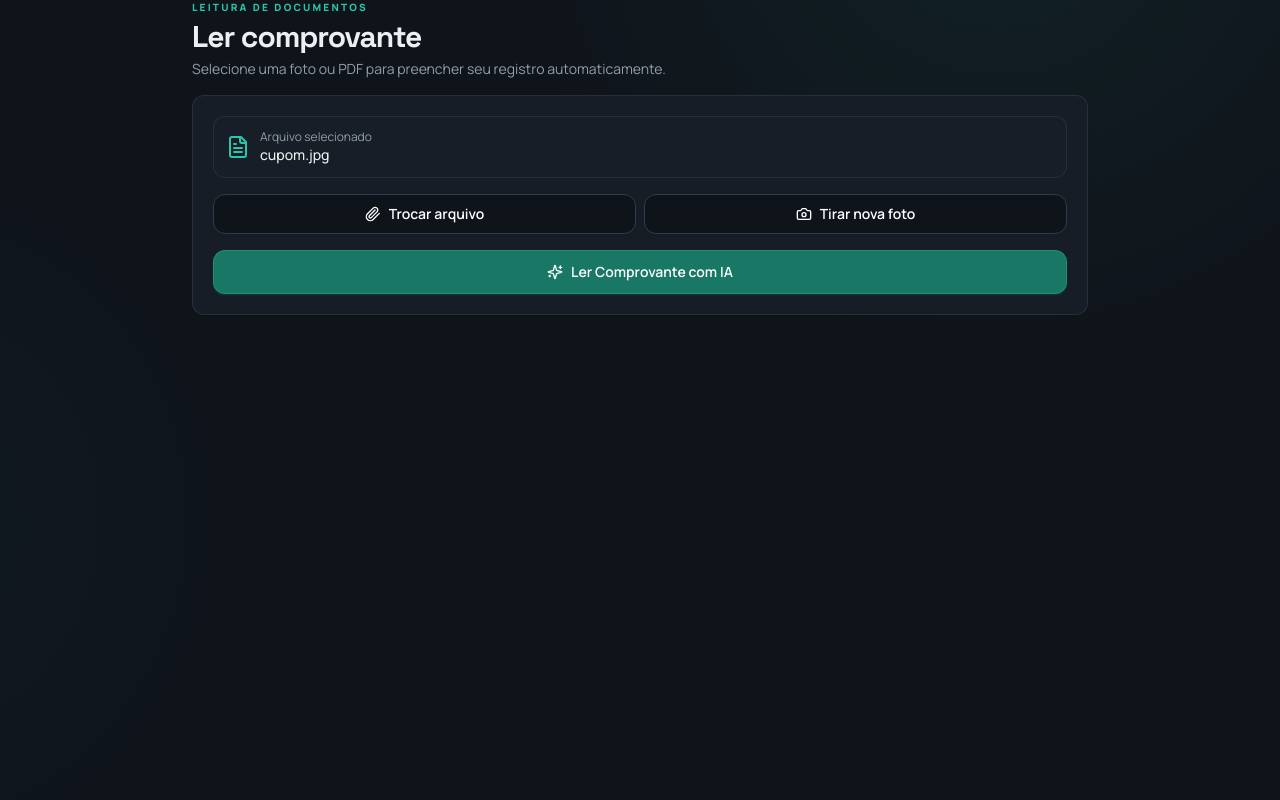
Test: ReceiptImport free external AI reader (test) › requires explicit consent mentioning the external free service before reading
Earlier steps of the test are not shown.
Click the button "Ler Comprovante com IA" at (640, 272), box [213, 250, 1067, 294]
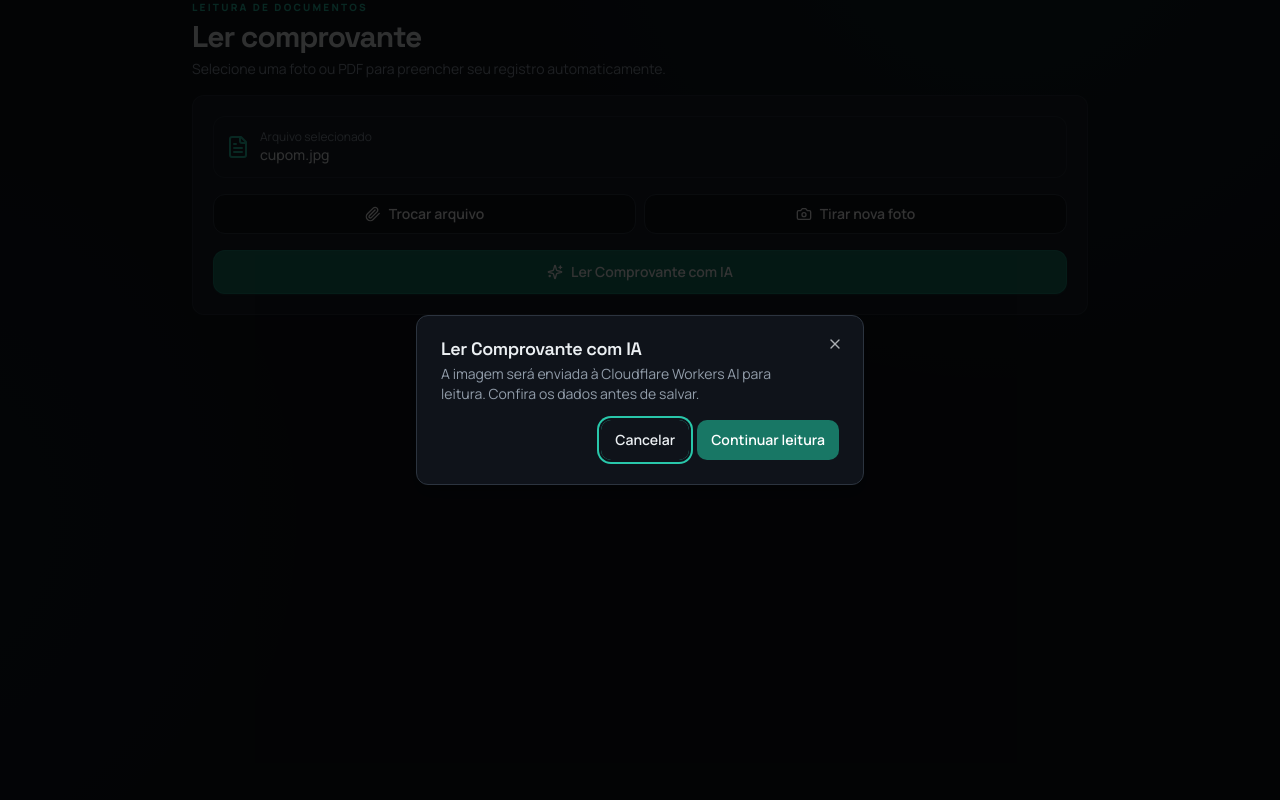
Now the text "Confira os dados antes de salvar" is shown, box [441, 364, 771, 403]
Click the button "Cancelar" at (645, 440), box [601, 420, 689, 460]
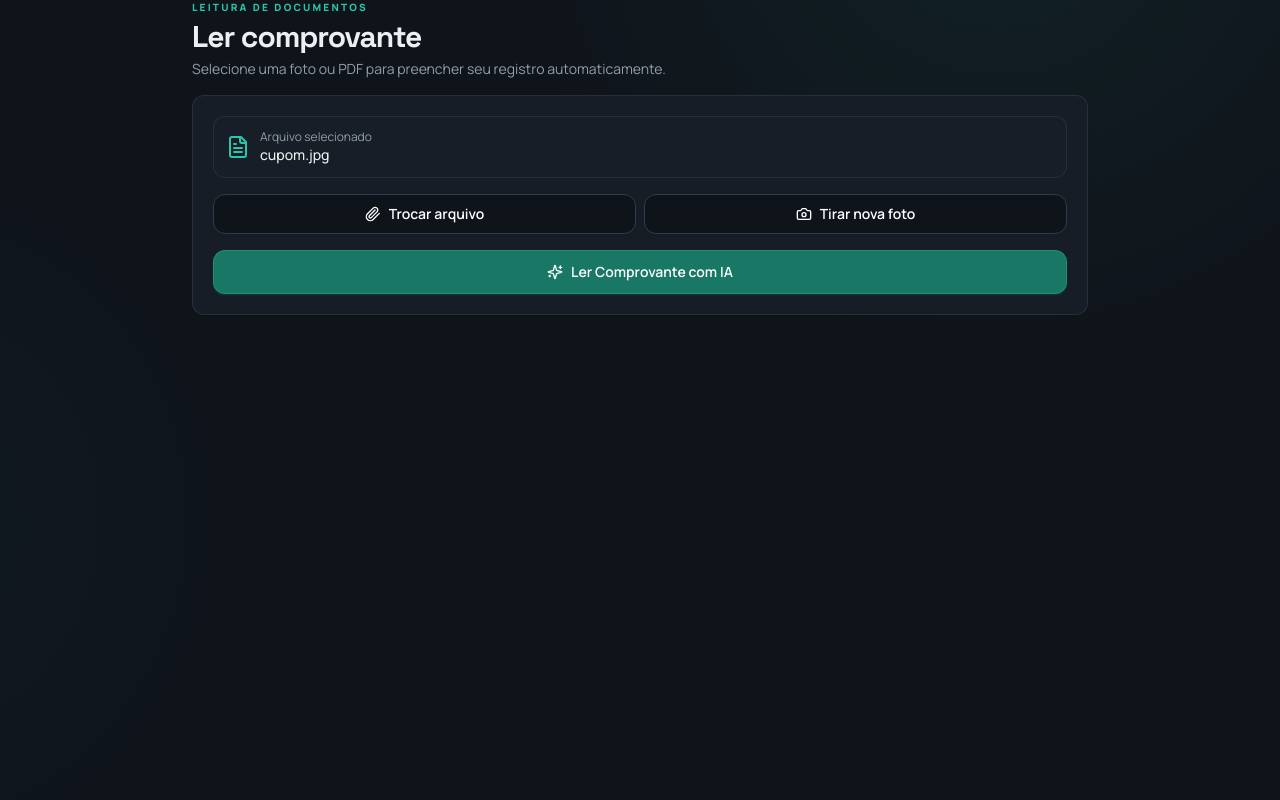
Now the text "Cloudflare Workers AI" is gone
